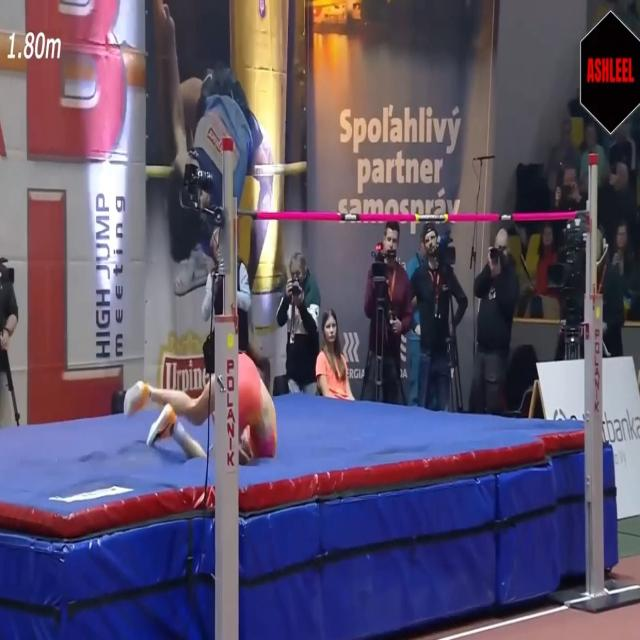land: (124, 357, 278, 462)
